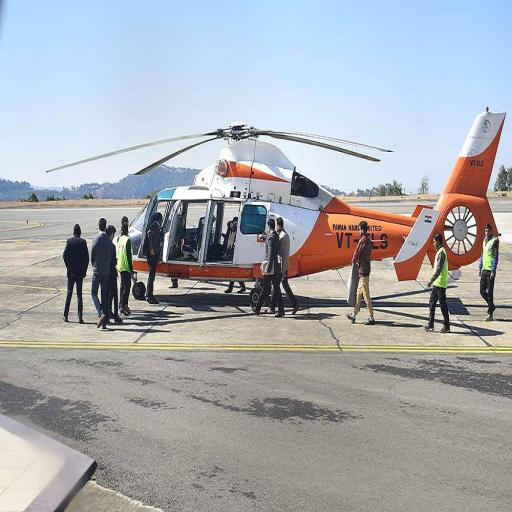helicopter: (46, 105, 512, 297)
